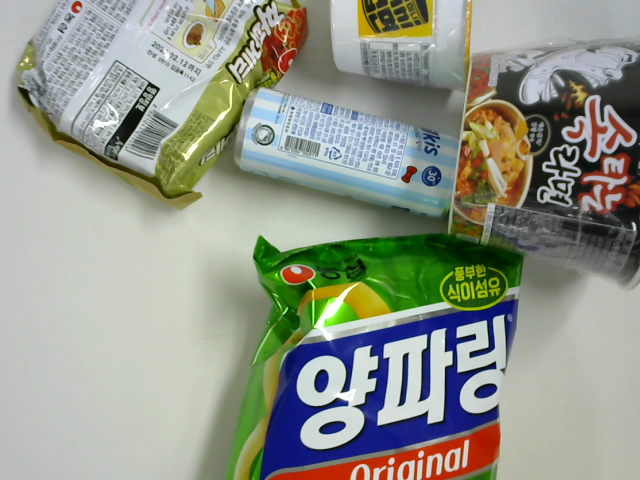HeJangsock: (451, 38, 640, 266)
Milkies_250ml: (250, 88, 467, 232)
Olive_Chapaghetti: (31, 1, 269, 189)
Oninon_Ring: (210, 243, 507, 480)
Udongmini: (330, 1, 471, 89)
